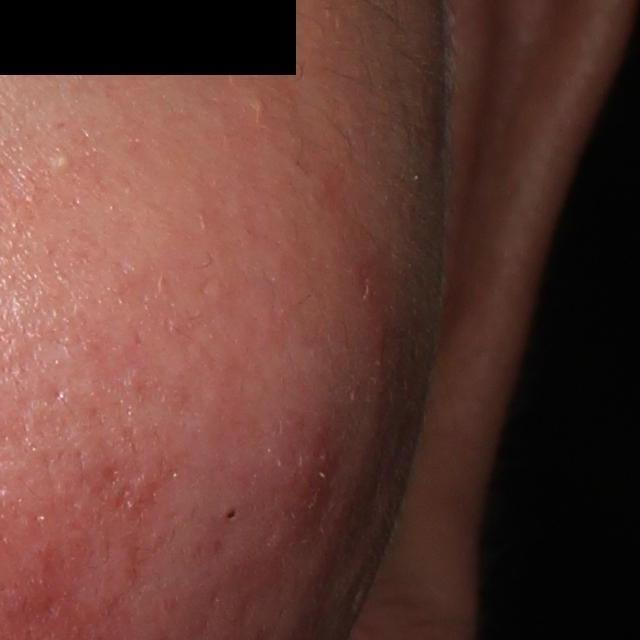comedo: (243, 93, 269, 119), (52, 150, 76, 176), (216, 503, 240, 528)
